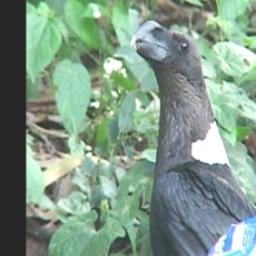Crow: (128, 21, 256, 256)
